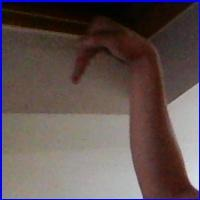A: (69, 10, 155, 92)
